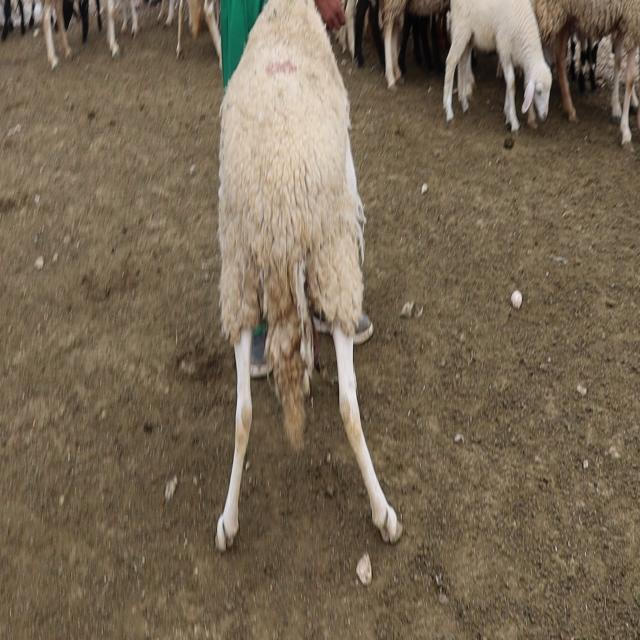Score_4: (216, 0, 402, 551)
